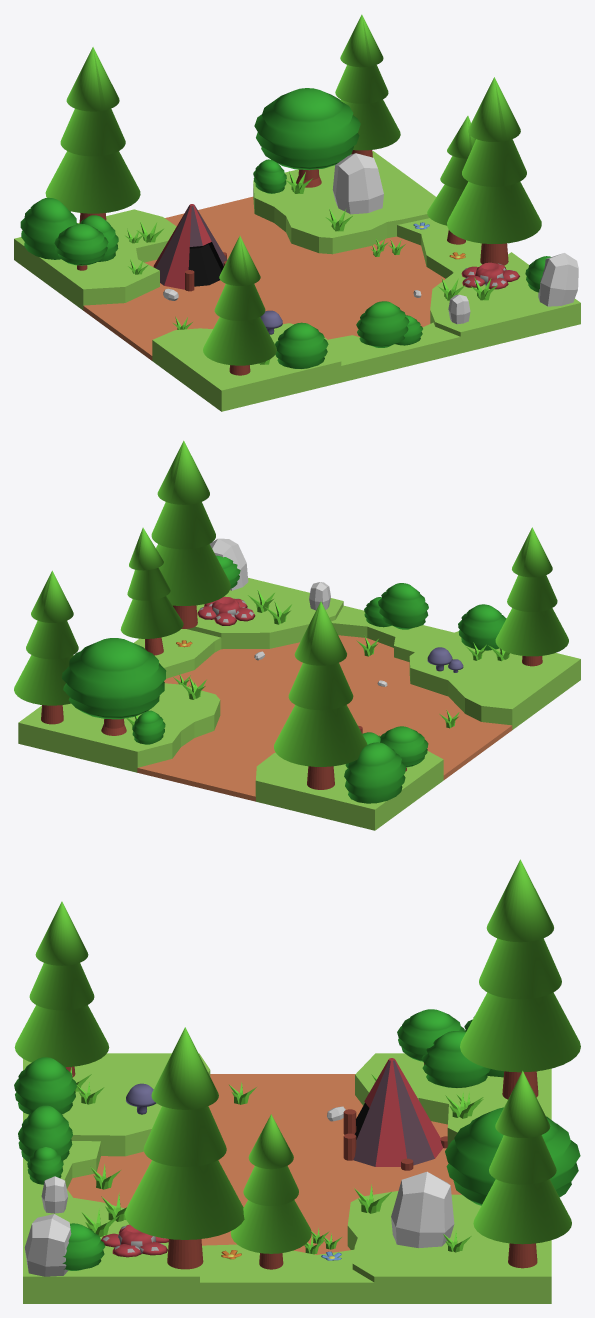
The model's file is jungle level set - 2 Way (2).fbx.
3 views of the same model, one above another, from view 1: azimuth 30°, elevation 25°; view 2: azimuth 150°, elevation 25°; view 3: azimuth 270°, elevation 25° (orthographic). The views are drawn at different scales.
Visible parts, largest first — view 1: land_platform, tree_008, tree, tree_003, tree_006, tree_001, camp, stone_004, bush_003, tree_007, bush_005, bush_004 (+6 smaller); view 2: land_platform, tree, tree_008, tree_003, tree_006, tree_001, tree_007, bush_003, bush_004, bush_005, tree_004, raflesia (+3 smaller); view 3: land_platform, tree_008, tree, tree_001, tree_006, camp, tree_007, tree_003, stone_004, bush_005, bush_001, stone_001 (+7 smaller).
Part boxes in pixels (bbox=[...]): land_platform: bbox=[14, 151, 580, 411]; tree_008: bbox=[447, 77, 541, 265]; tree: bbox=[45, 47, 140, 223]; tree_003: bbox=[254, 88, 360, 187]; tree_006: bbox=[203, 236, 276, 375]; tree_001: bbox=[335, 14, 400, 157]; camp: bbox=[153, 204, 227, 291]; stone_004: bbox=[332, 153, 383, 214]; bush_003: bbox=[20, 197, 77, 259]; tree_007: bbox=[427, 116, 475, 244]; bush_005: bbox=[275, 322, 328, 368]; bush_004: bbox=[356, 301, 409, 347]; land_platform: bbox=[18, 578, 580, 830]; tree: bbox=[274, 601, 367, 789]; tree_008: bbox=[151, 440, 230, 628]; tree_003: bbox=[62, 638, 166, 735]; tree_006: bbox=[495, 527, 568, 666]; tree_001: bbox=[14, 570, 78, 724]; tree_007: bbox=[120, 527, 183, 655]; bush_003: bbox=[344, 742, 406, 803]; bush_004: bbox=[378, 583, 428, 629]; bush_005: bbox=[458, 604, 506, 650]; tree_004: bbox=[380, 726, 428, 771]; raflesia: bbox=[197, 596, 255, 625]; land_platform: bbox=[23, 1053, 551, 1303]; tree_008: bbox=[124, 1027, 244, 1269]; tree: bbox=[460, 859, 580, 1099]; tree_001: bbox=[473, 1071, 571, 1268]; tree_006: bbox=[14, 901, 109, 1077]; camp: bbox=[343, 1058, 447, 1170]; tree_007: bbox=[230, 1114, 311, 1269]; tree_003: bbox=[445, 1107, 580, 1205]; stone_004: bbox=[391, 1171, 454, 1248]; bush_005: bbox=[14, 1057, 76, 1114]; bush_001: bbox=[421, 1031, 490, 1087]; stone_001: bbox=[24, 1214, 71, 1276].
Size of the model in its own units: 16.23 by 8.5 by 16.27.
